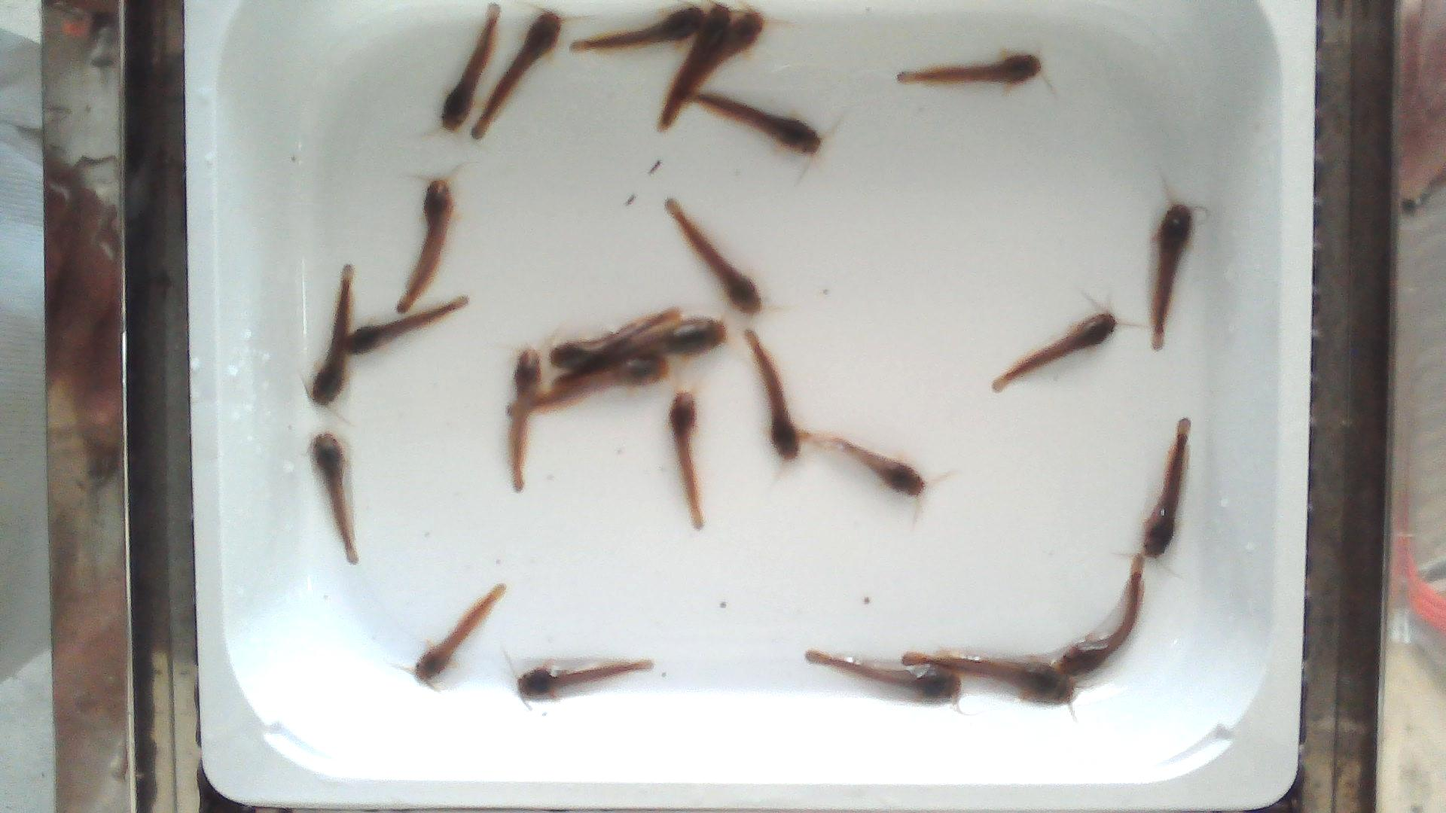lele: (554, 316, 726, 384), (471, 12, 561, 139), (666, 200, 761, 312), (897, 649, 1076, 706), (992, 310, 1117, 391), (1062, 555, 1144, 678), (415, 584, 505, 681), (660, 3, 730, 124), (531, 353, 666, 414), (801, 431, 925, 497), (686, 93, 820, 154), (549, 310, 679, 370), (680, 11, 762, 105), (396, 178, 453, 312), (807, 651, 959, 700), (440, 5, 499, 130), (344, 297, 468, 354), (746, 332, 800, 459), (1143, 419, 1189, 557), (311, 265, 354, 408), (1151, 204, 1192, 349), (313, 433, 358, 563), (572, 6, 704, 50), (518, 659, 653, 699), (898, 51, 1042, 85), (669, 391, 703, 528), (508, 351, 541, 491)
